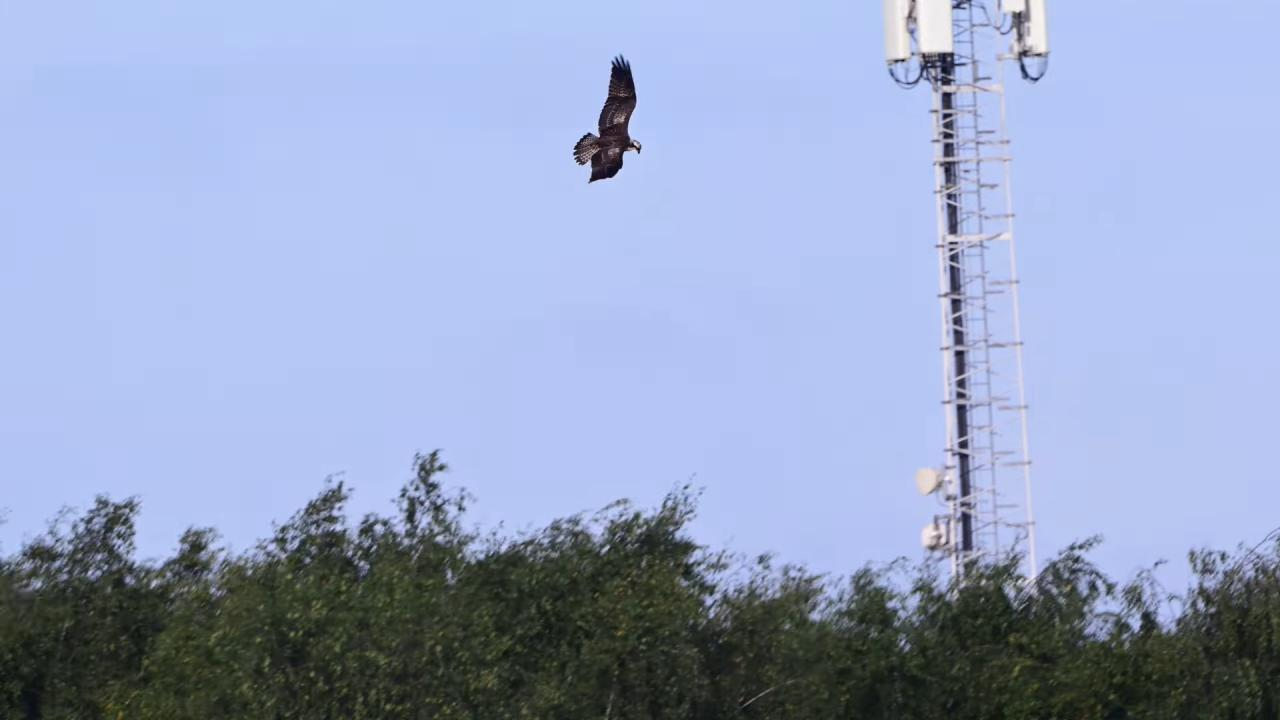Bird: (550, 36, 666, 202)
